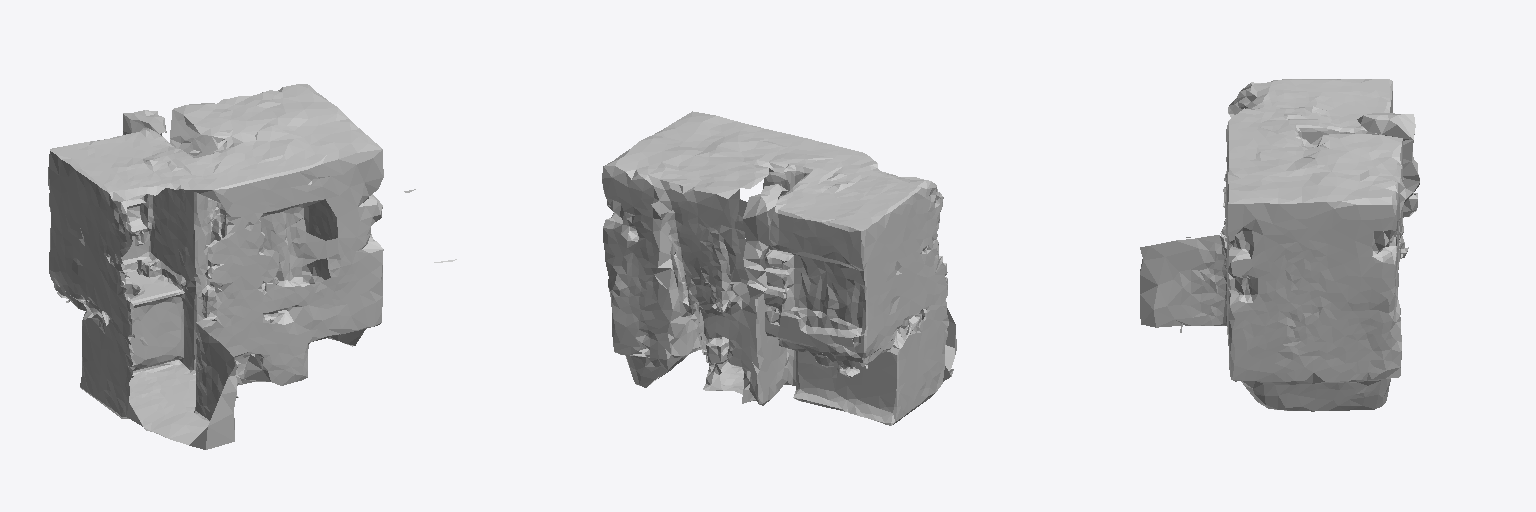
Rendered from Beaty Bathroom.obj.
3 views of the same model, side by side, from view 1: azimuth 30°, elevation 25°; view 2: azimuth 150°, elevation 25°; view 3: azimuth 270°, elevation 25° (orthographic).
Parts seen in each view (by area): view 1: mesh_simple_rotated_0; view 2: mesh_simple_rotated_0; view 3: mesh_simple_rotated_0.
Part boxes in pixels (left/top/right/bottom): mesh_simple_rotated_0: left=48, top=84, right=456, bottom=449; mesh_simple_rotated_0: left=602, top=111, right=956, bottom=425; mesh_simple_rotated_0: left=1140, top=79, right=1419, bottom=411.
Size of the model in its own units: 3.25 by 2.34 by 2.58.